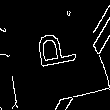P_W: (30, 32, 80, 78)
